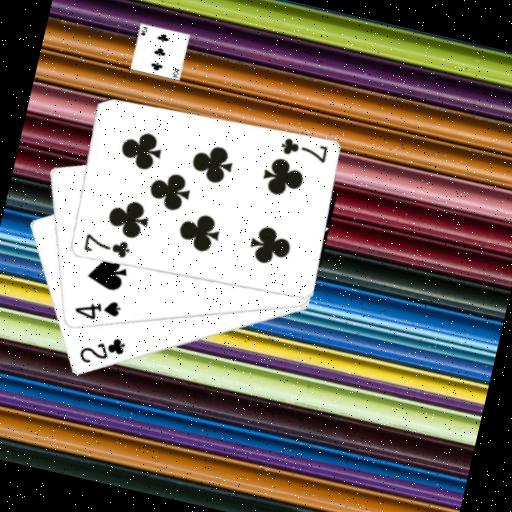2C: (74, 327, 128, 373)
4S: (70, 290, 124, 328)
7C: (79, 230, 133, 263), (276, 133, 330, 166)
